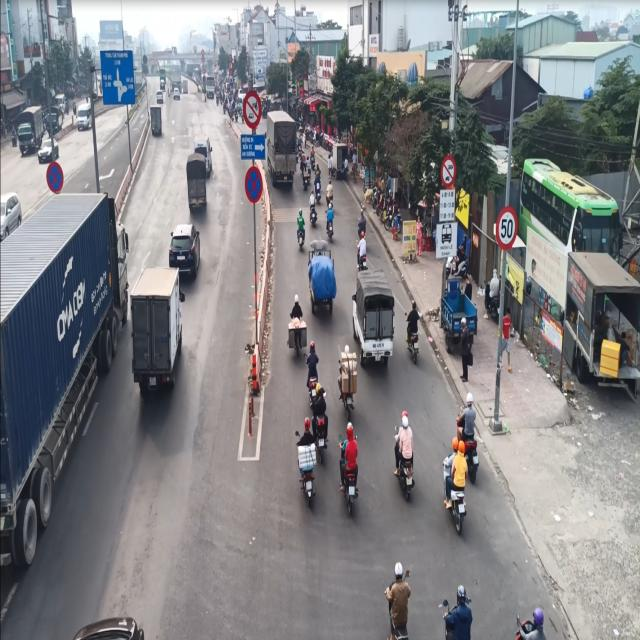car: (168, 219, 202, 281)
motor: (440, 437, 470, 536), (334, 422, 361, 517), (394, 400, 417, 504), (296, 415, 319, 511), (338, 342, 359, 425), (288, 283, 306, 364), (405, 297, 423, 367), (294, 207, 306, 253)
truck: (0, 184, 129, 579), (132, 263, 184, 405), (350, 266, 399, 371), (265, 106, 299, 192), (186, 145, 209, 226)
